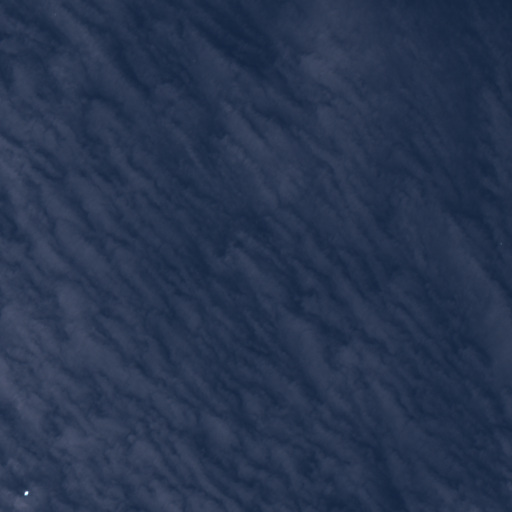Iceberg: (24, 491, 28, 495)
